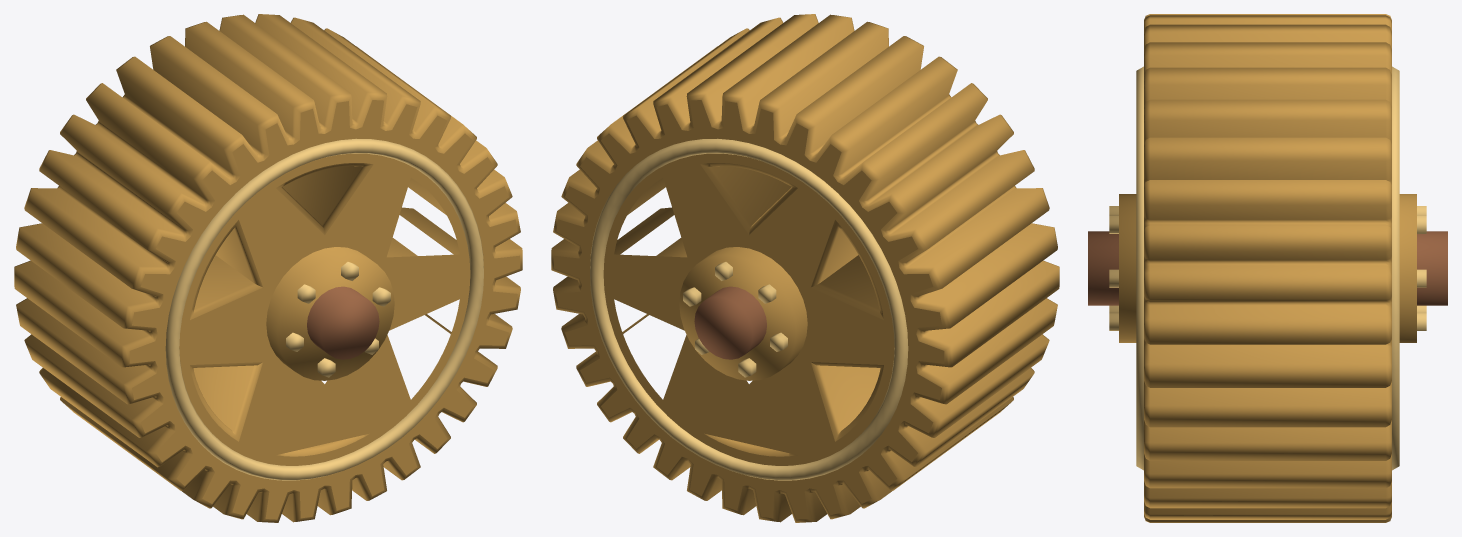
File: gear-34.glb
3 views of the same model, side by side, from view 1: azimuth 30°, elevation 25°; view 2: azimuth 150°, elevation 25°; view 3: azimuth 270°, elevation 25° (orthographic). The views are drawn at different scales.
Parts seen in each view (by area): view 1: gear; view 2: gear; view 3: gear.
Part boxes in pixels (box(x1,y1,x2,y2)): gear: box(14, 14, 522, 522); gear: box(551, 14, 1059, 522); gear: box(1088, 14, 1447, 522).
Size of the model in its own units: 2.05 by 2.05 by 1.45.
